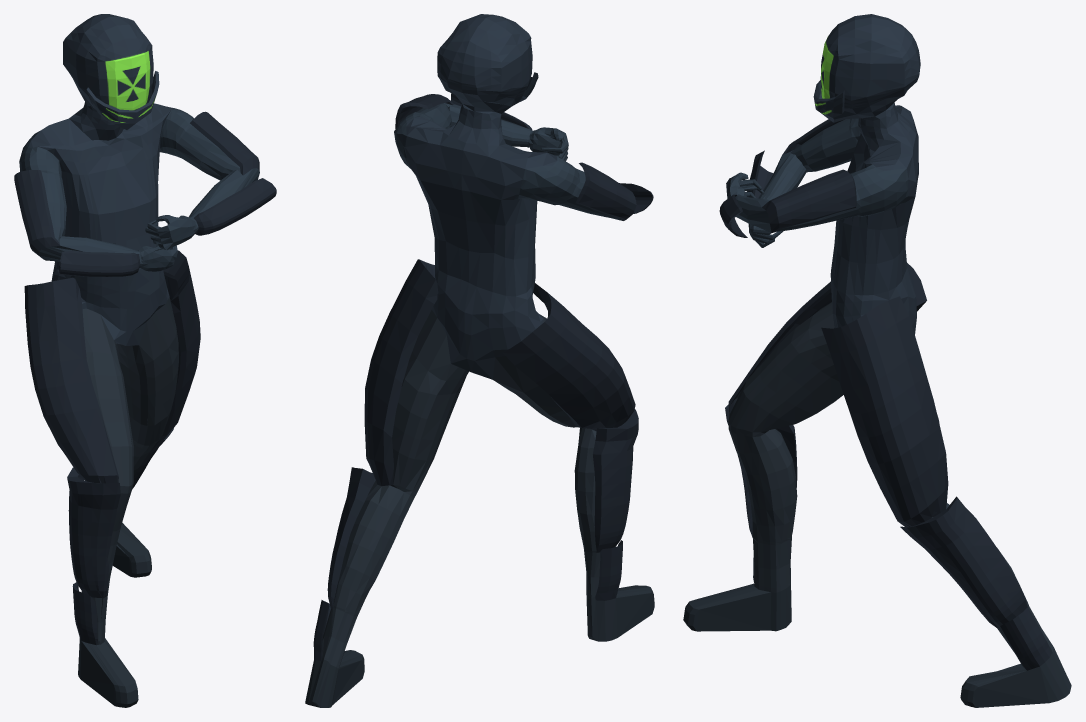
The model's file is Bastion_Stun_000004.obj.
3 views of the same model, side by side, from view 1: azimuth 30°, elevation 25°; view 2: azimuth 150°, elevation 25°; view 3: azimuth 270°, elevation 25° (orthographic). The views are drawn at different scales.
Visible parts, largest first — view 1: Cube.002; view 2: Cube.002; view 3: Cube.002.
Part boxes in pixels (box(x1,y1,x2,y2)): Cube.002: box(14, 14, 276, 707); Cube.002: box(305, 14, 654, 707); Cube.002: box(683, 14, 1071, 707).
Bounding box in the file's own units: 1.35 × 3.63 × 1.98.
